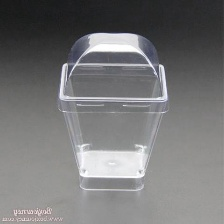glass: (48, 27, 177, 203)
